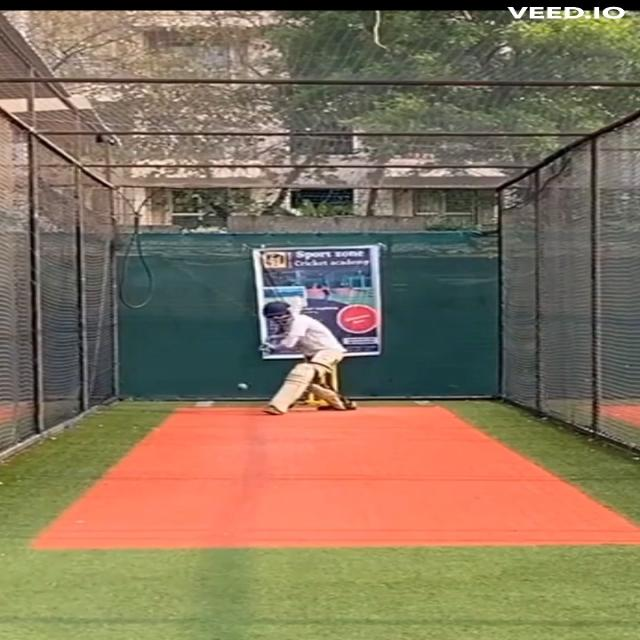ball: (229, 380, 254, 394)
